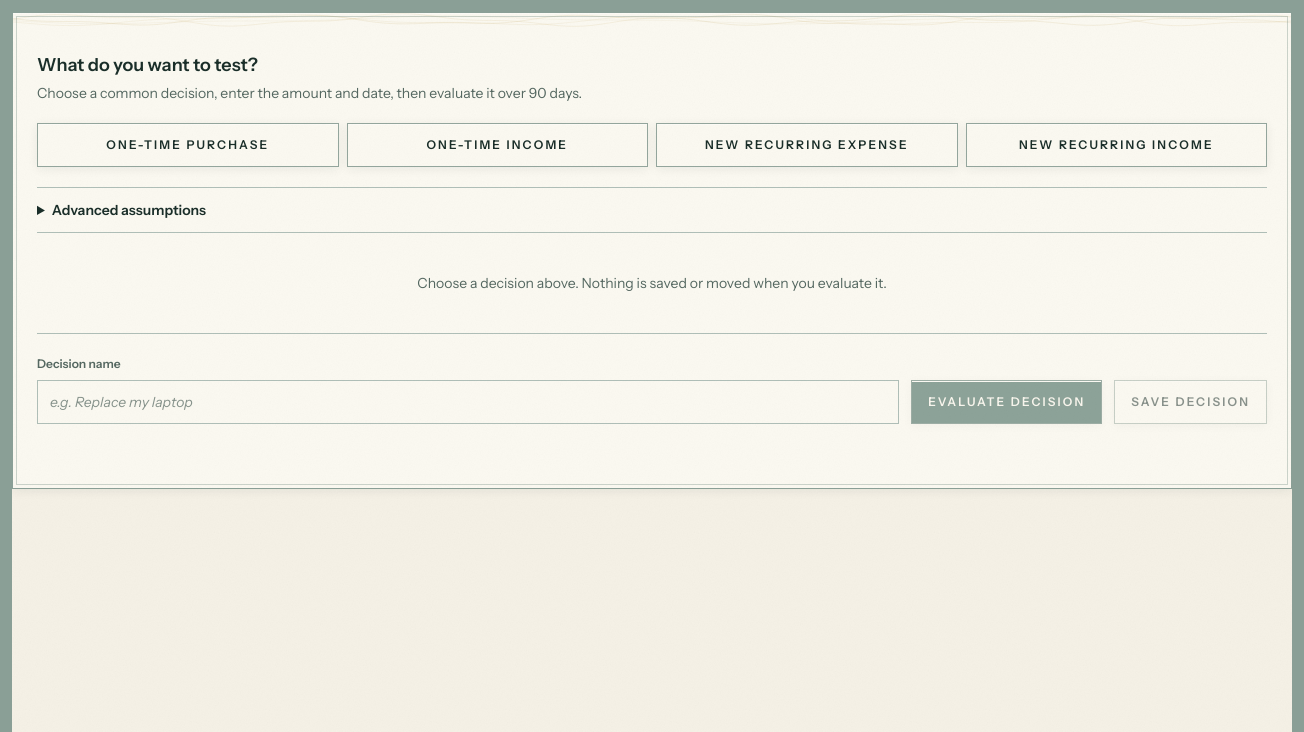
ScenarioBuilder › removing a row clears it from the list
Click the button "One-time purchase": (188, 145) [37,123,338,167]
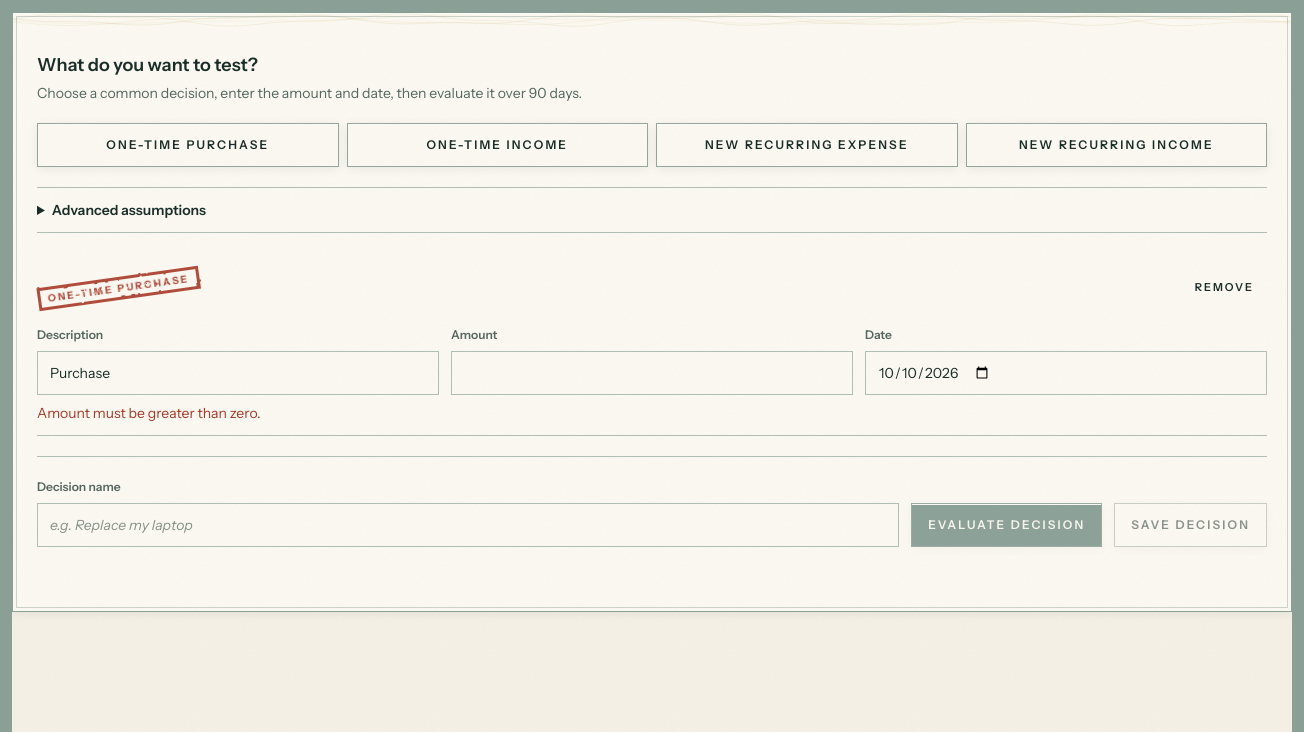
Check: the number of list items with test id "scenario-row" is 1, box [37,253,1267,436]
Click the button with aria-label "Remove assumption": (1224, 287) [1182,265,1267,309]
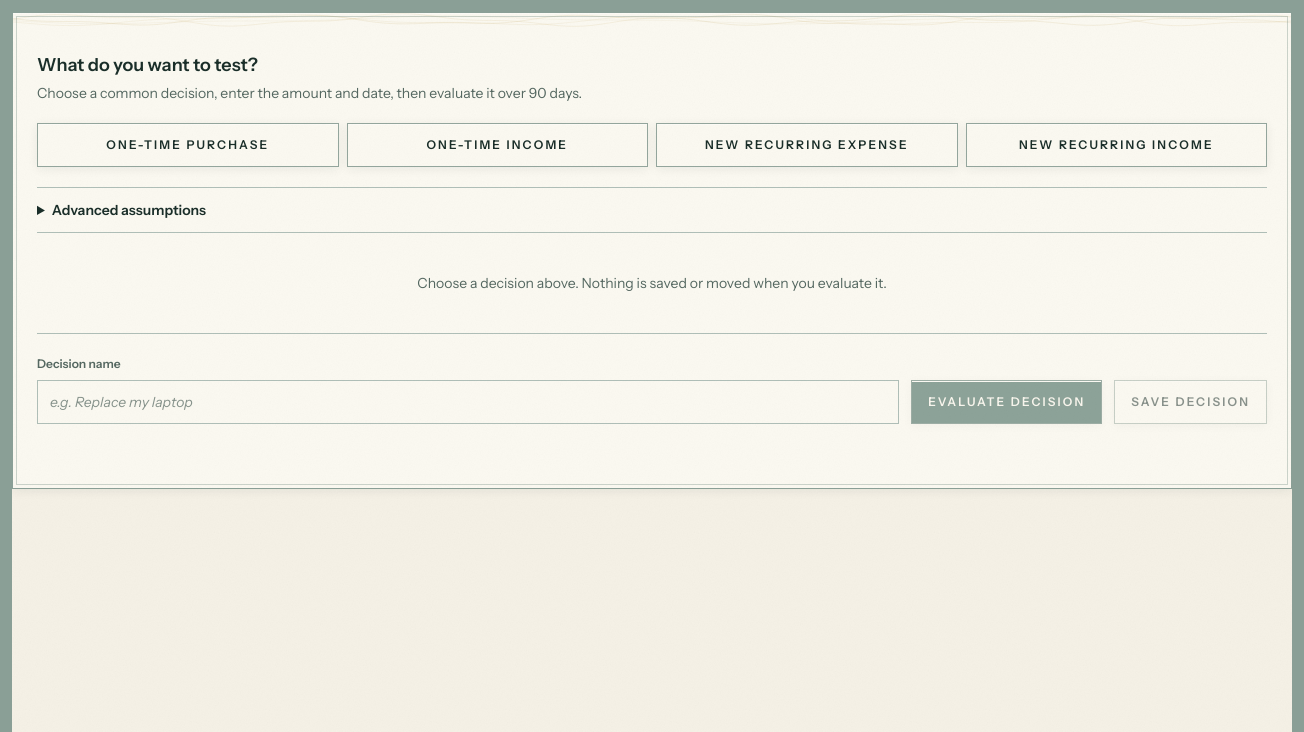
Check: no list items with test id "scenario-row" are shown
